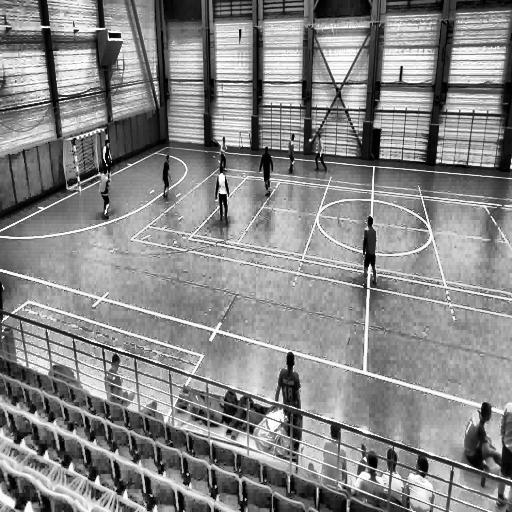ball: (308, 136, 313, 144)
player: (361, 215, 377, 290), (216, 162, 229, 228), (258, 146, 274, 198), (313, 132, 328, 173), (99, 168, 111, 219), (162, 152, 172, 200), (102, 138, 112, 182), (218, 132, 228, 172), (287, 133, 296, 175)
